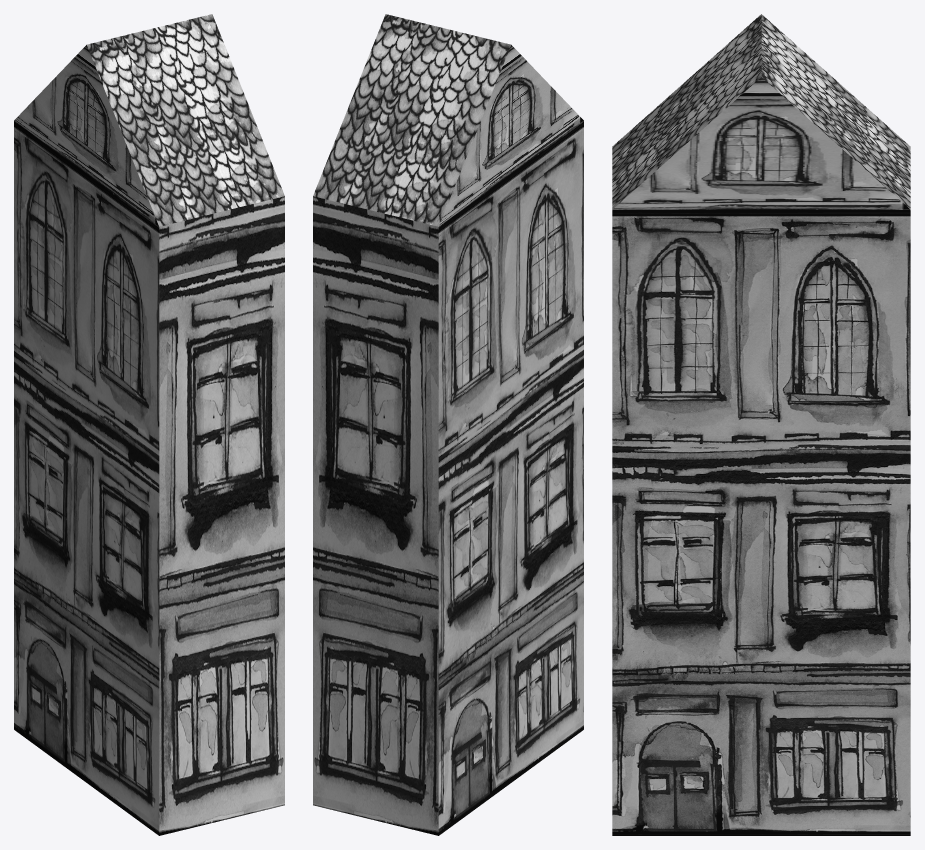
The model's file is HouseSimple01.fbx.
The picture shows the model from 3 angles, left to right: view 1: azimuth 30°, elevation 25°; view 2: azimuth 150°, elevation 25°; view 3: azimuth 270°, elevation 25°; orthographic projection. The views are drawn at different scales.
Parts seen in each view (by area): view 1: HouseSimple01; view 2: HouseSimple01; view 3: HouseSimple01.
Part boxes in pixels (bbox=[...]): HouseSimple01: bbox=[14, 14, 284, 835]; HouseSimple01: bbox=[313, 14, 583, 835]; HouseSimple01: bbox=[612, 14, 910, 835].
Size of the model in its own units: 5 by 28.05 by 10.
